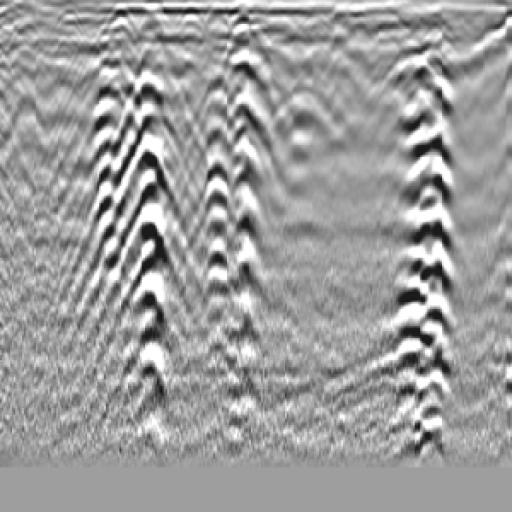metalic: (264, 73, 359, 217)
